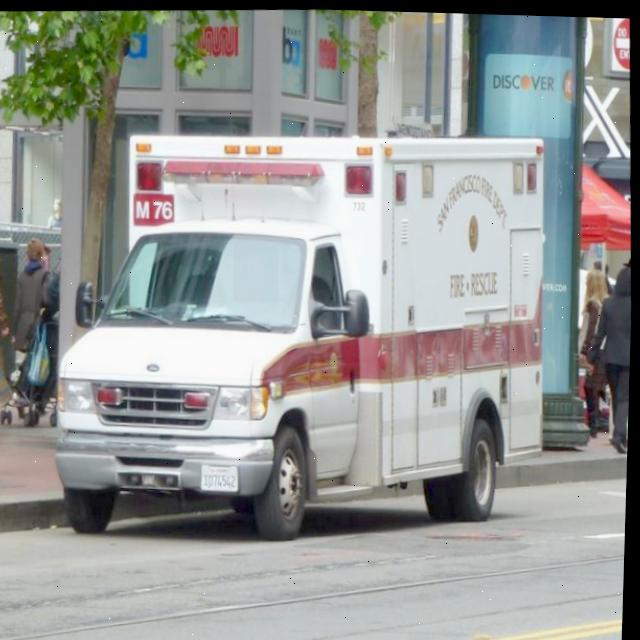emergency: (33, 120, 382, 541)
